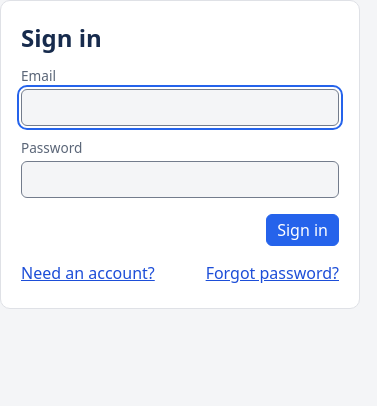
Test: creating an account › tells people to check their email and offers to resend the confirmation
The image size is (377, 406).
Click the button "Need an account?" at (88, 273), box [21,258,155,288]
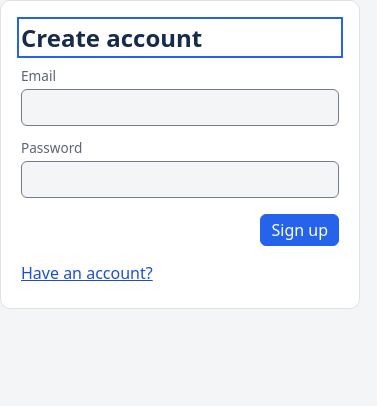
Type "ana@example.com" into the field labelled "Email" at (180, 108), box [21,89,339,126]
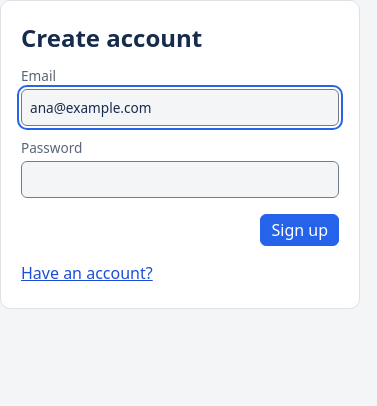
Type "secret123" into the password field labelled "Password" at (180, 180), box [21,161,339,198]
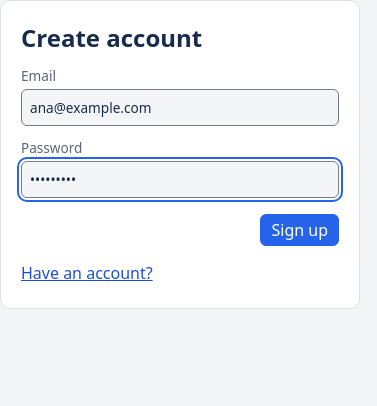
Click the button "Sign up" at (300, 230), box [260,214,339,246]
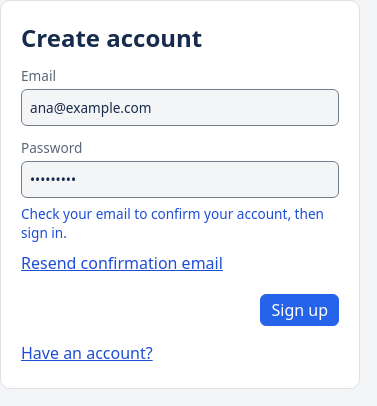
Check: the message shows "Check your email to confirm your account", box [21,204,324,242]
Click the button "Resend confirmation email" at (122, 263), box [21,248,223,278]
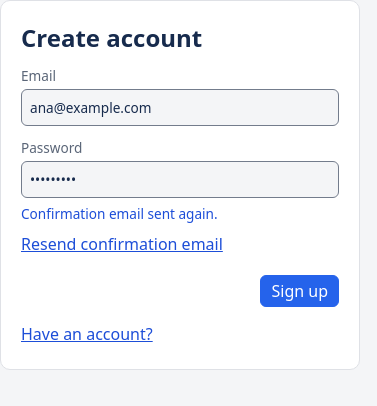
Check: the text "Confirmation email sent again." is shown, box [21,204,218,223]
